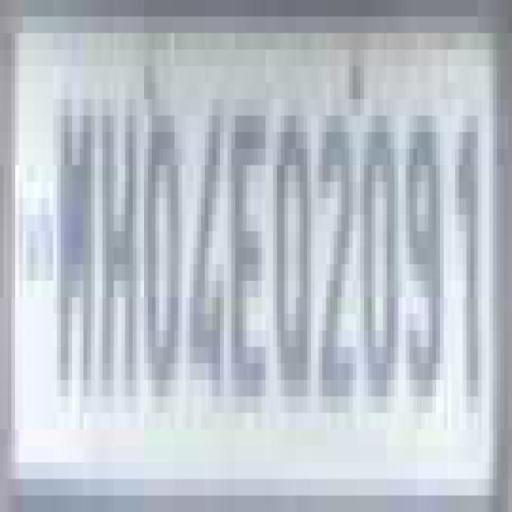number plate: (3, 0, 489, 495)
